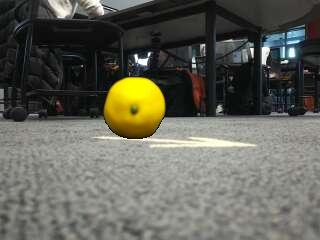lemon: (104, 77, 164, 139)
